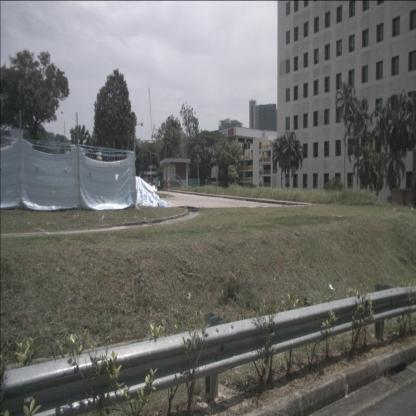human-pedestrian-adult: (157, 179, 161, 191), (162, 180, 164, 192)
